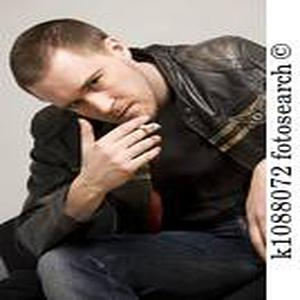cigarette: (140, 122, 156, 132)
